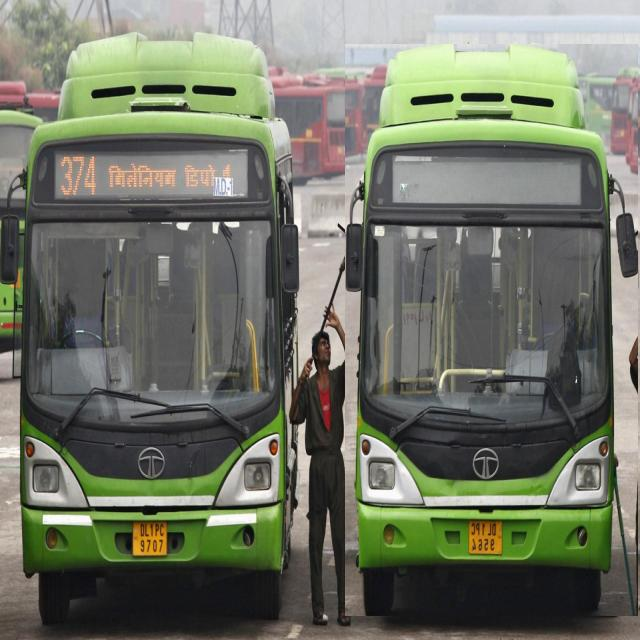bus: (0, 33, 299, 624), (346, 44, 638, 616)
